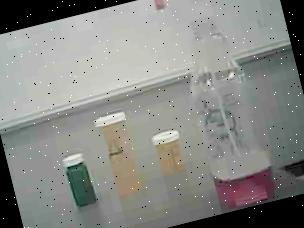Bottle A: (90, 105, 152, 202)
Bottle B: (143, 121, 194, 180)
Bottle C: (57, 144, 107, 212)
hazard: (147, 0, 300, 219)
